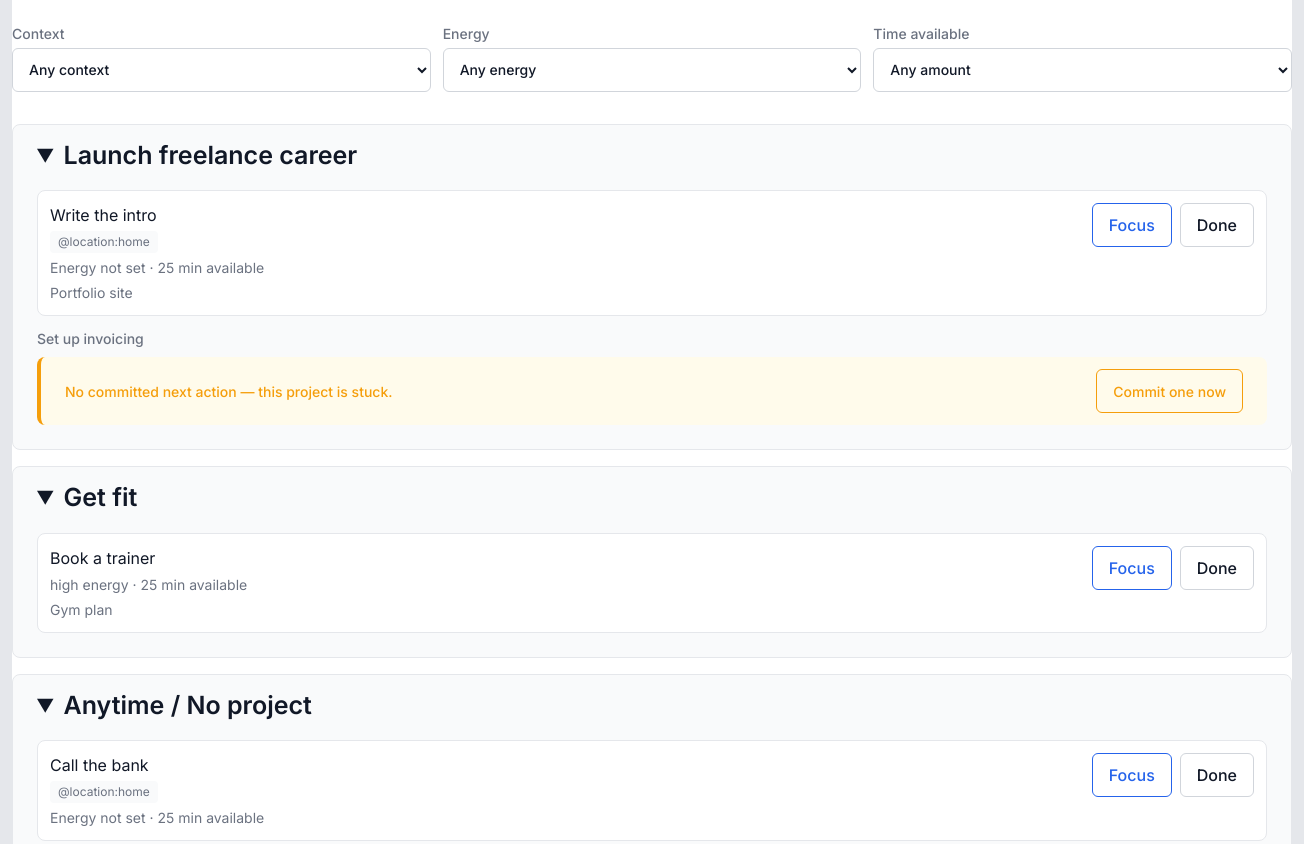
Test: EngageBoard › surfaces an inline error when a mutation fails
The image size is (1304, 844).
Click the button named "Mark \"Write the intro\" done": (1217, 225) [1180,203,1254,247]
(page scrolled)
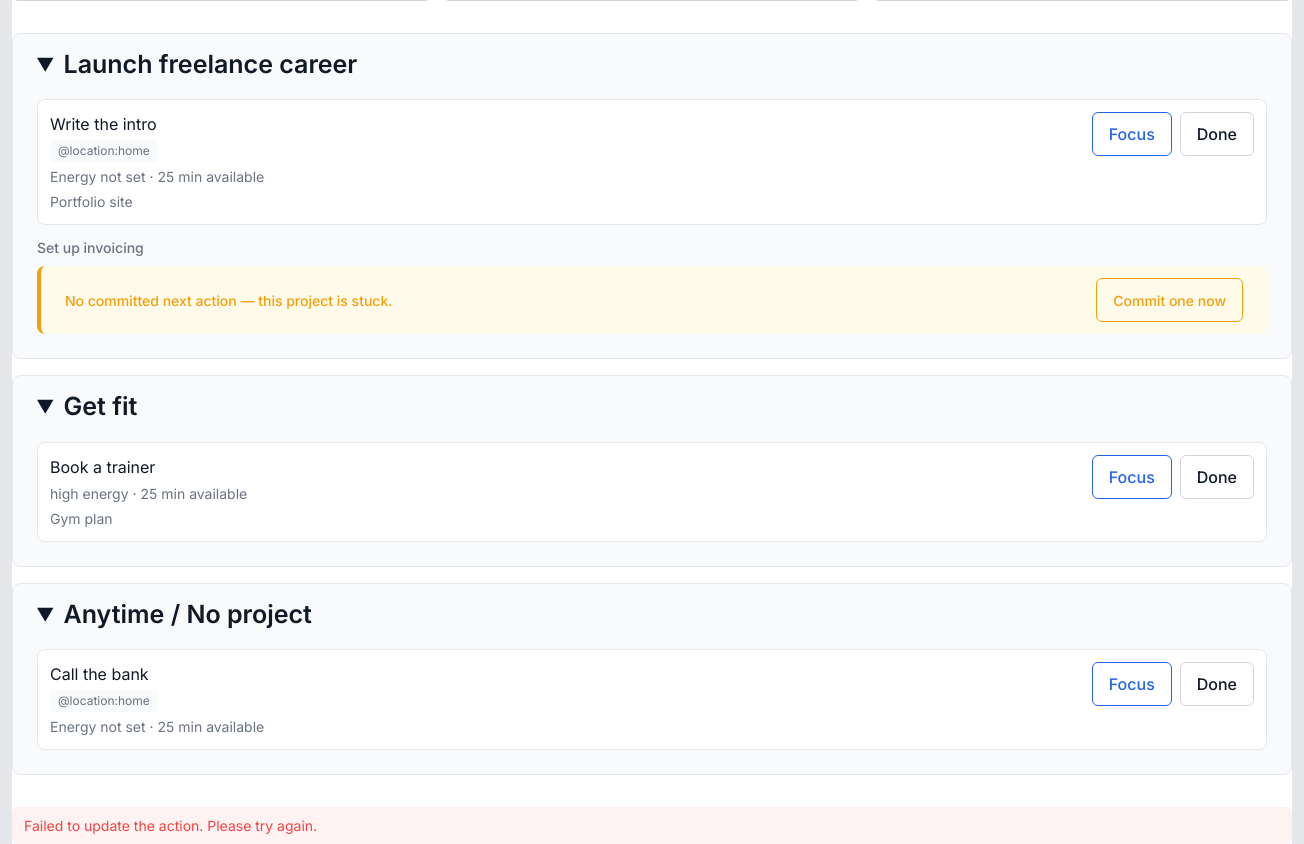
Check: the text "Failed to update the action. Please try again." is shown, box [12,807,1292,843]
